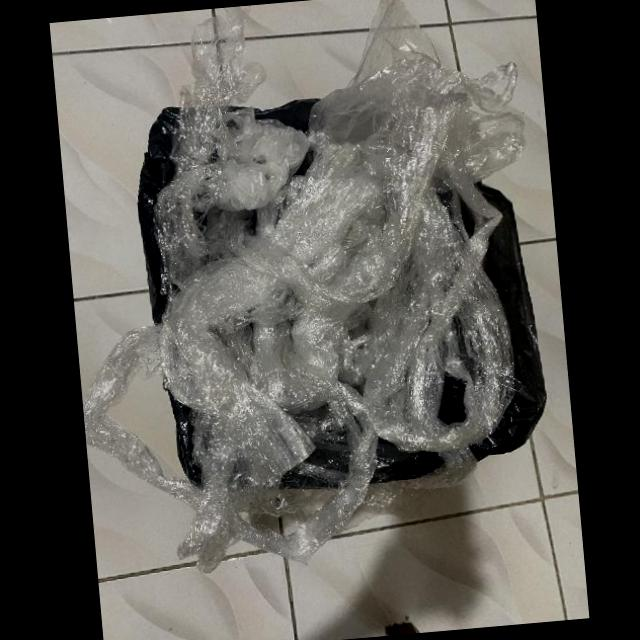tui_ni_long: (84, 0, 526, 568), (440, 374, 468, 426)
